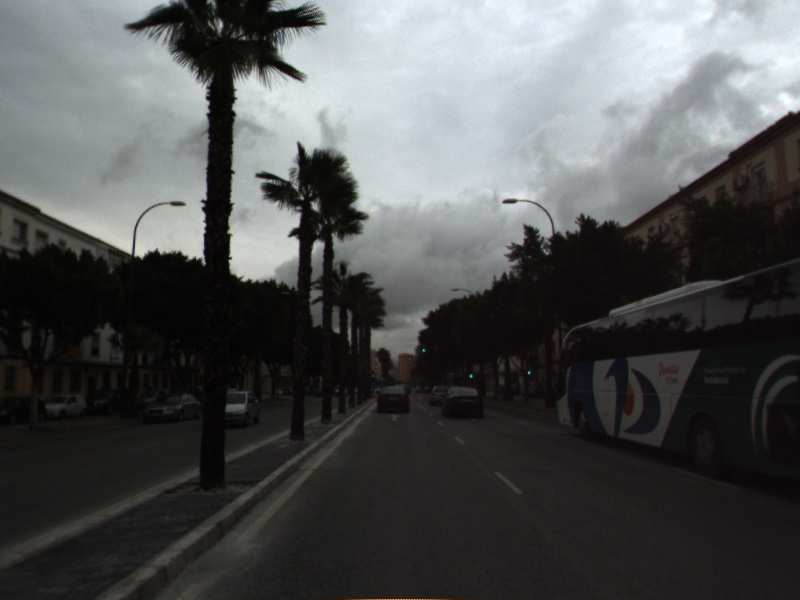STRAIGHT: (385, 411, 403, 423)
